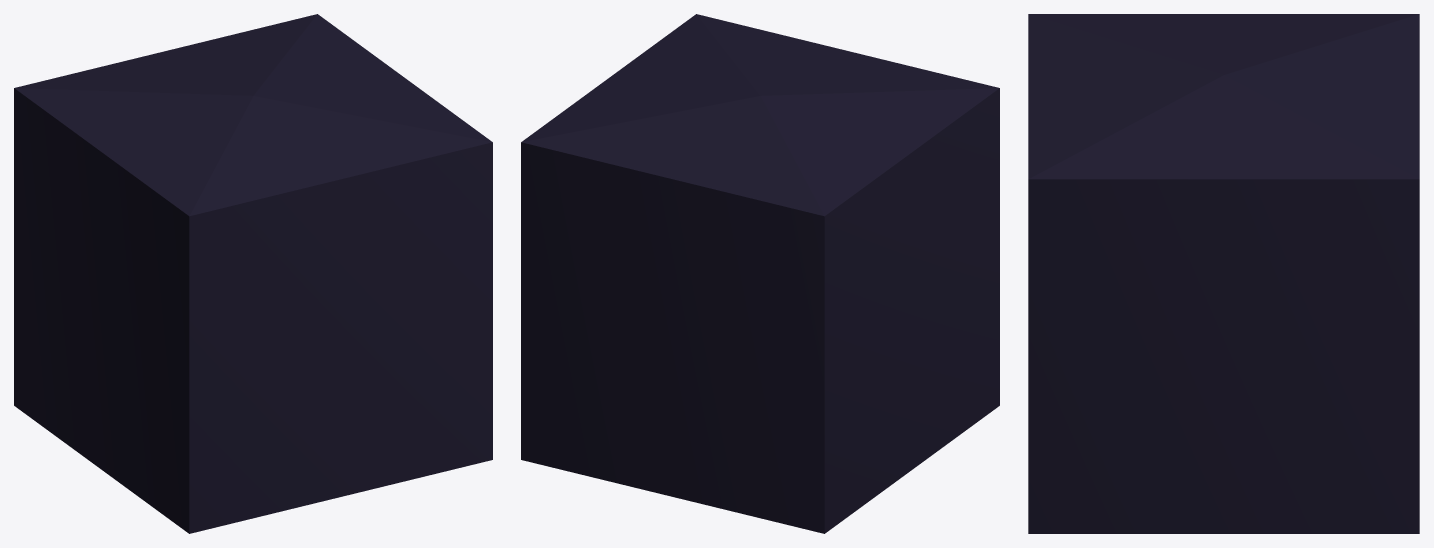
The model's file is wall solid.glb.
The picture shows the model from 3 angles, left to right: view 1: azimuth 30°, elevation 25°; view 2: azimuth 150°, elevation 25°; view 3: azimuth 270°, elevation 25°; orthographic projection. The views are drawn at different scales.
Visible parts, largest first — view 1: wall (solid).008; view 2: wall (solid).008; view 3: wall (solid).008.
Part boxes in pixels (left/top/right/bottom): wall (solid).008: left=14, top=14, right=492, bottom=533; wall (solid).008: left=521, top=14, right=999, bottom=533; wall (solid).008: left=1028, top=14, right=1419, bottom=533.
Bounding box in the file's own units: 1 × 1.06 × 1.
